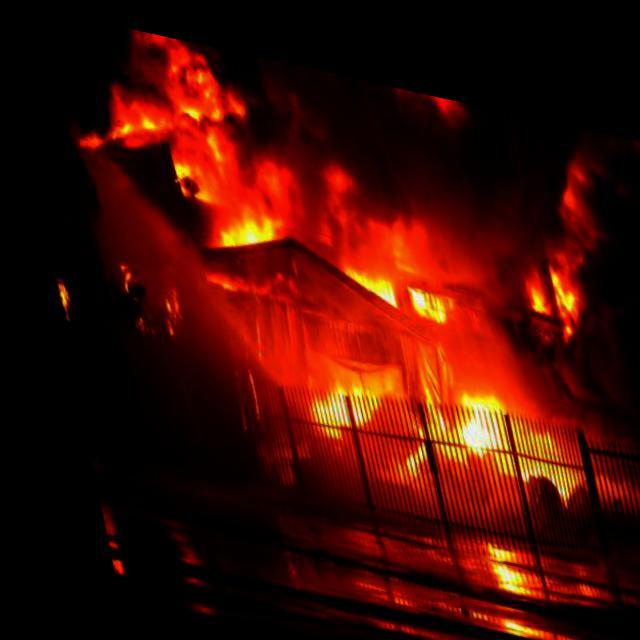Fire: (50, 23, 639, 512)
